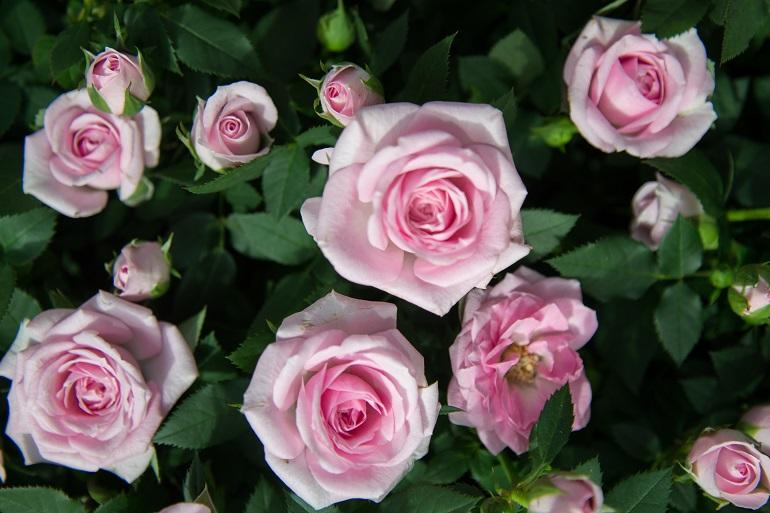Rose: (313, 95, 530, 304), (236, 292, 442, 512), (3, 285, 209, 489), (453, 261, 603, 452), (567, 7, 724, 171), (24, 88, 165, 222), (190, 74, 279, 182), (683, 415, 770, 513), (630, 172, 722, 260), (298, 48, 386, 135), (73, 34, 158, 119), (100, 229, 181, 305)
